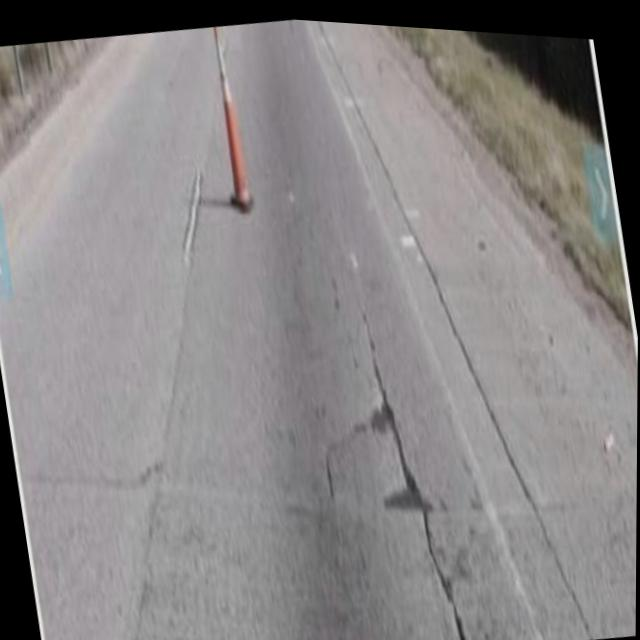Crack: (350, 305, 490, 640)
